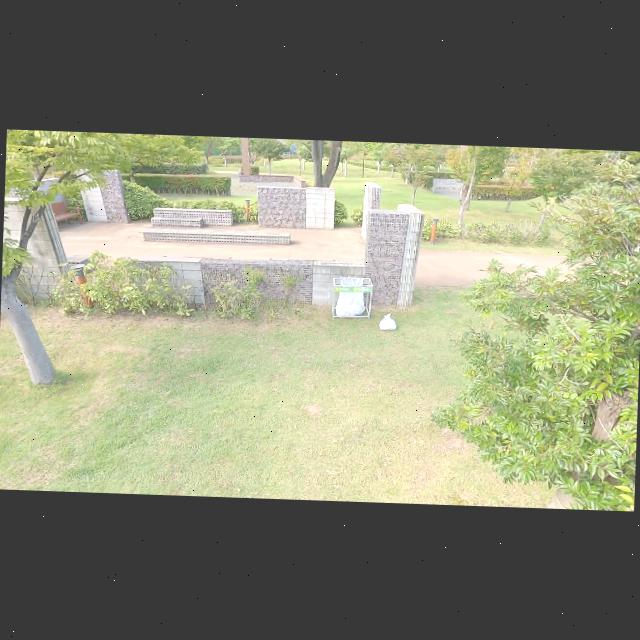trash: (378, 310, 399, 334)
